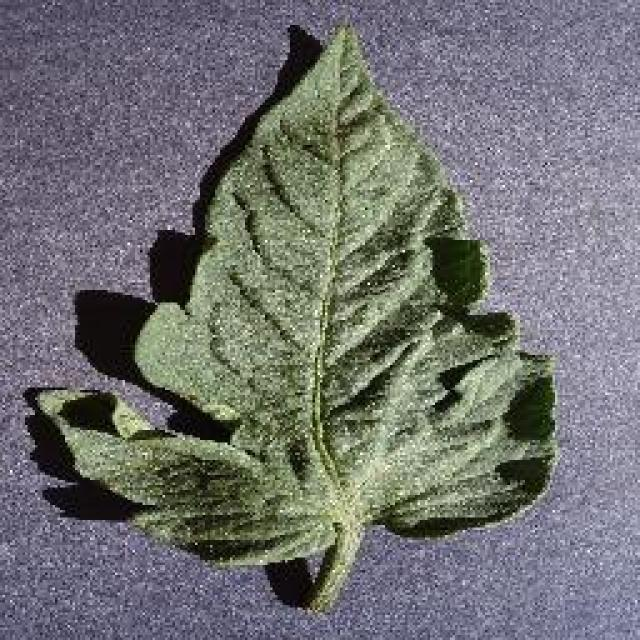Healthy: (40, 10, 568, 630)
